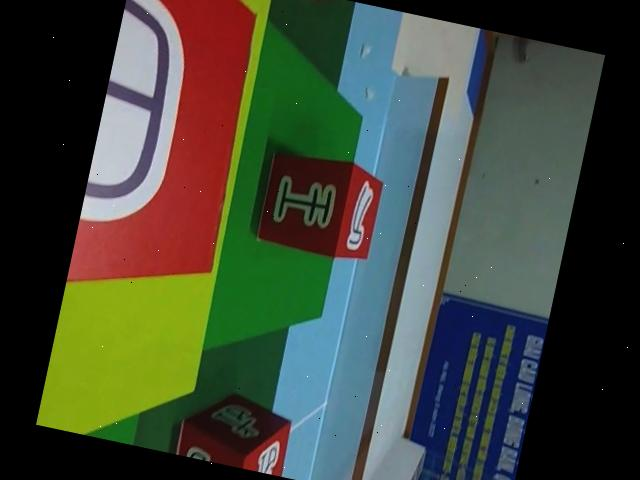R2 Fake: (65, 0, 278, 315), (250, 141, 393, 268)
R2 Real: (173, 380, 299, 478)
